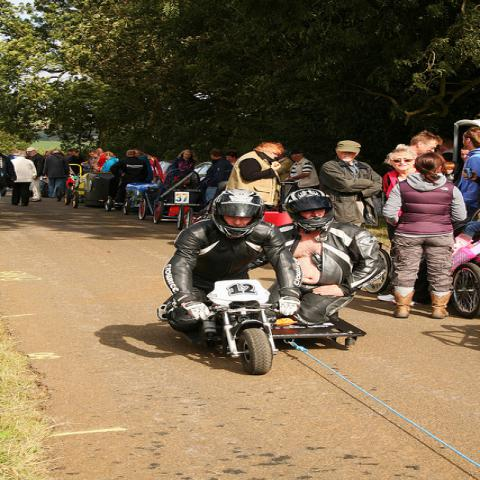motorcycle: (196, 278, 278, 375), (451, 254, 479, 318)
